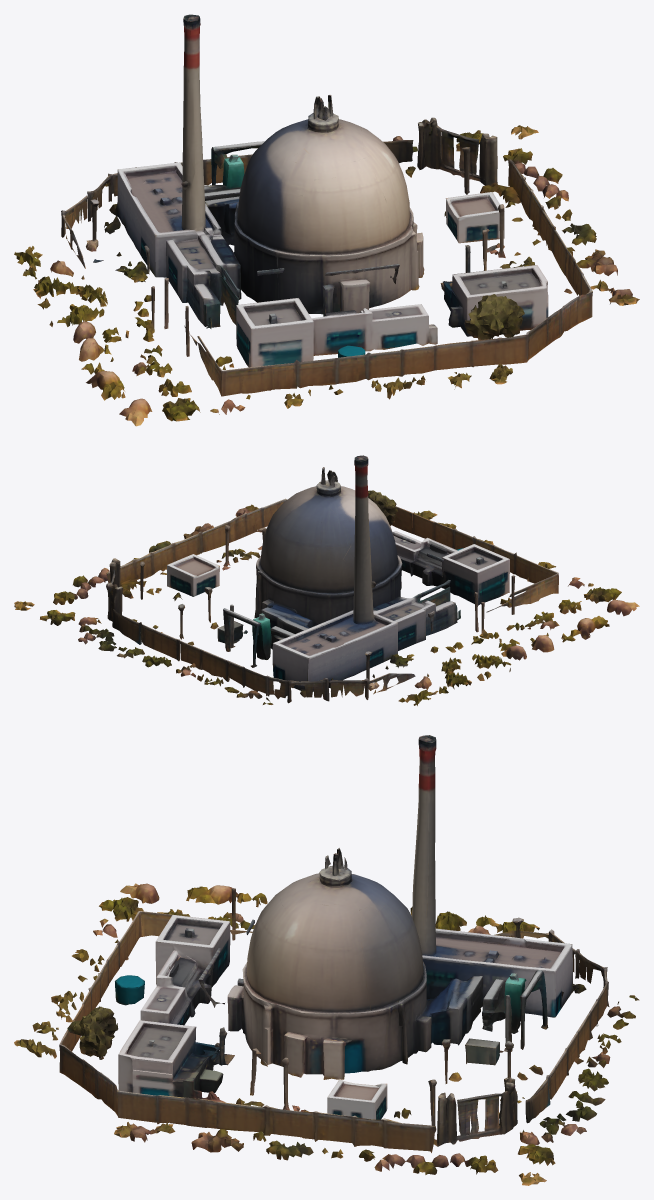
The model's file is lm_nuclear_research_noplinth.glb.
The picture shows the model from 3 angles, top to bottom: view 1: azimuth 30°, elevation 25°; view 2: azimuth 150°, elevation 25°; view 3: azimuth 270°, elevation 25°; orthographic projection. The views are drawn at different scales.
Parts seen in each view (by area): view 1: geometry_0; view 2: geometry_0; view 3: geometry_0.
Part boxes in pixels (box(x1,y1,x2,y2)): geometry_0: box(14, 14, 639, 426); geometry_0: box(14, 455, 639, 705); geometry_0: box(14, 735, 639, 1185).
Size of the model in its own units: 0.9405 by 0.3757 by 0.8276.
1 material, 1 textured.
